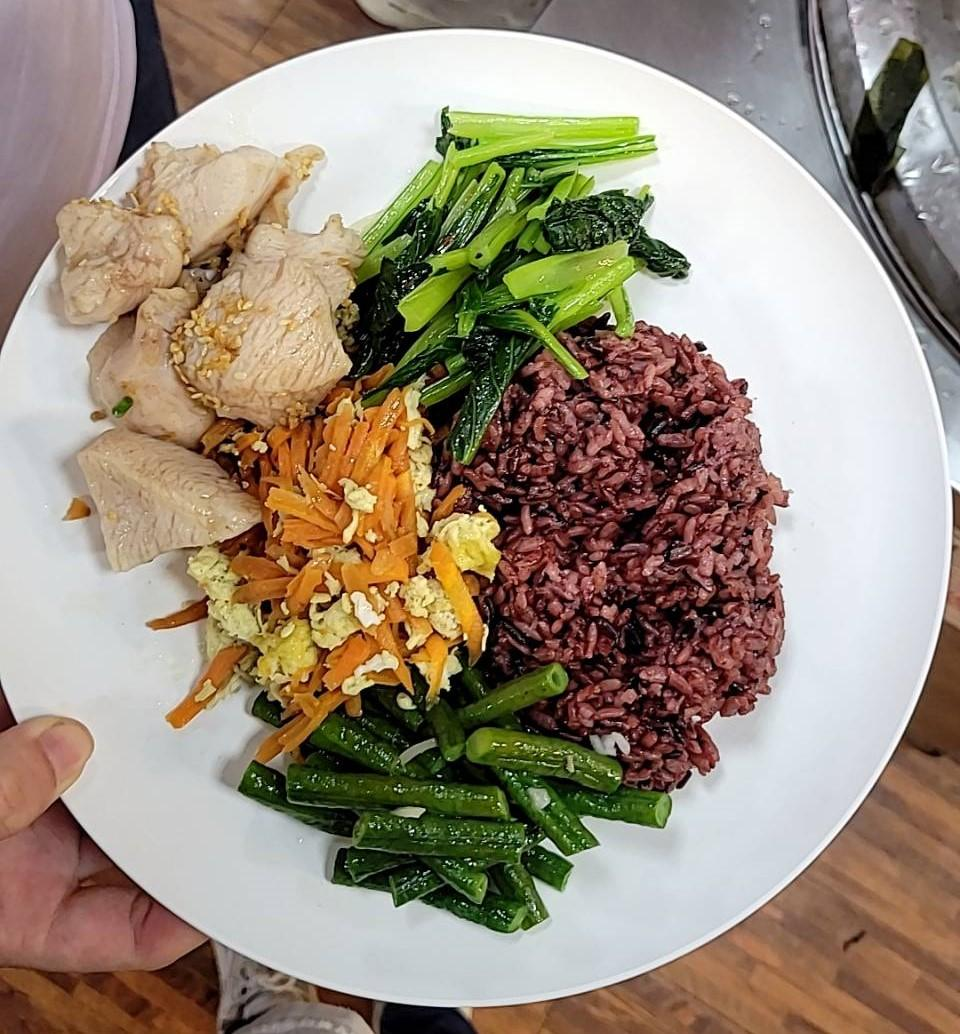big fried chicken leg: (8, 21, 957, 1018)
braised fish: (415, 308, 786, 760)
braised fish fillet: (339, 90, 683, 438), (181, 370, 496, 744), (253, 676, 665, 926)
braised pork: (23, 130, 374, 576)
